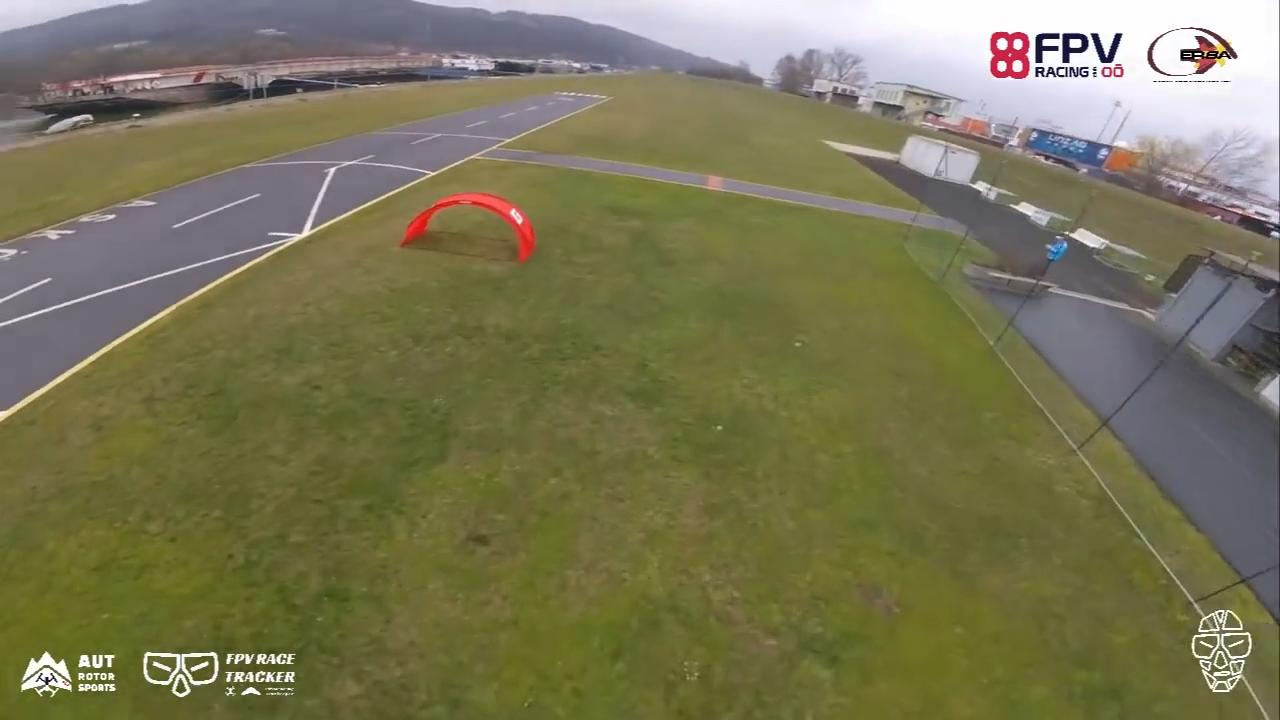gate: (399, 190, 536, 267)
